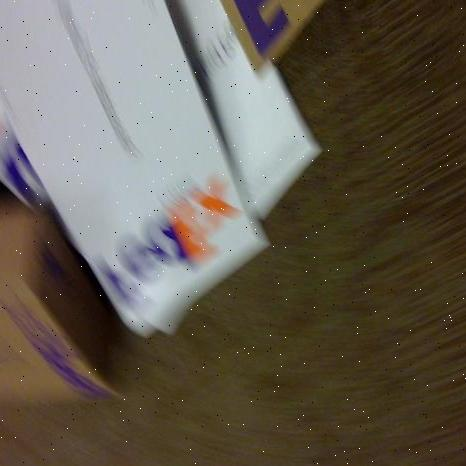Amazon: (0, 0, 258, 328), (202, 0, 342, 73)
